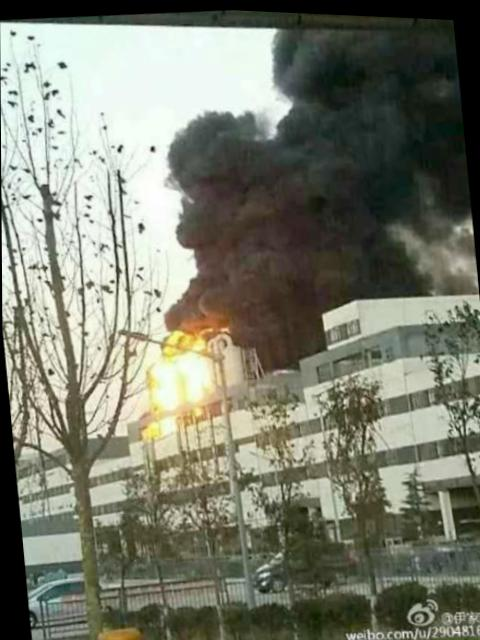fire: (145, 347, 214, 406), (160, 324, 202, 354), (136, 412, 176, 435)
